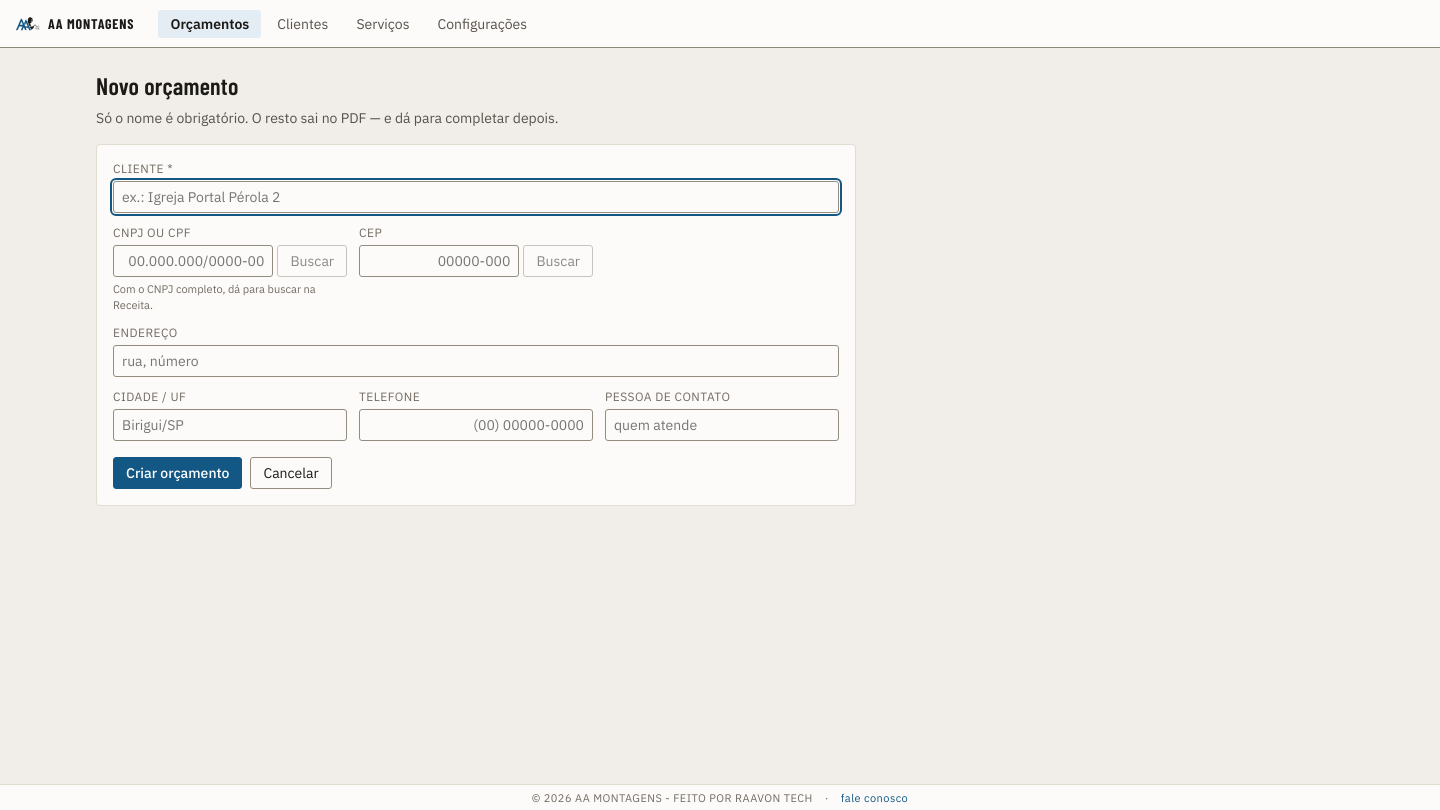
Test: novo orçamento: cadastro do cliente › grava os dados do cliente junto com o orçamento
The image size is (1440, 810).
Expected: the heading "Novo orçamento" is shown, [96,71,238,100]
In the field labelled "Cliente *": (476,197) [113,181,839,213], type "Igreja Portal Pérola 2"
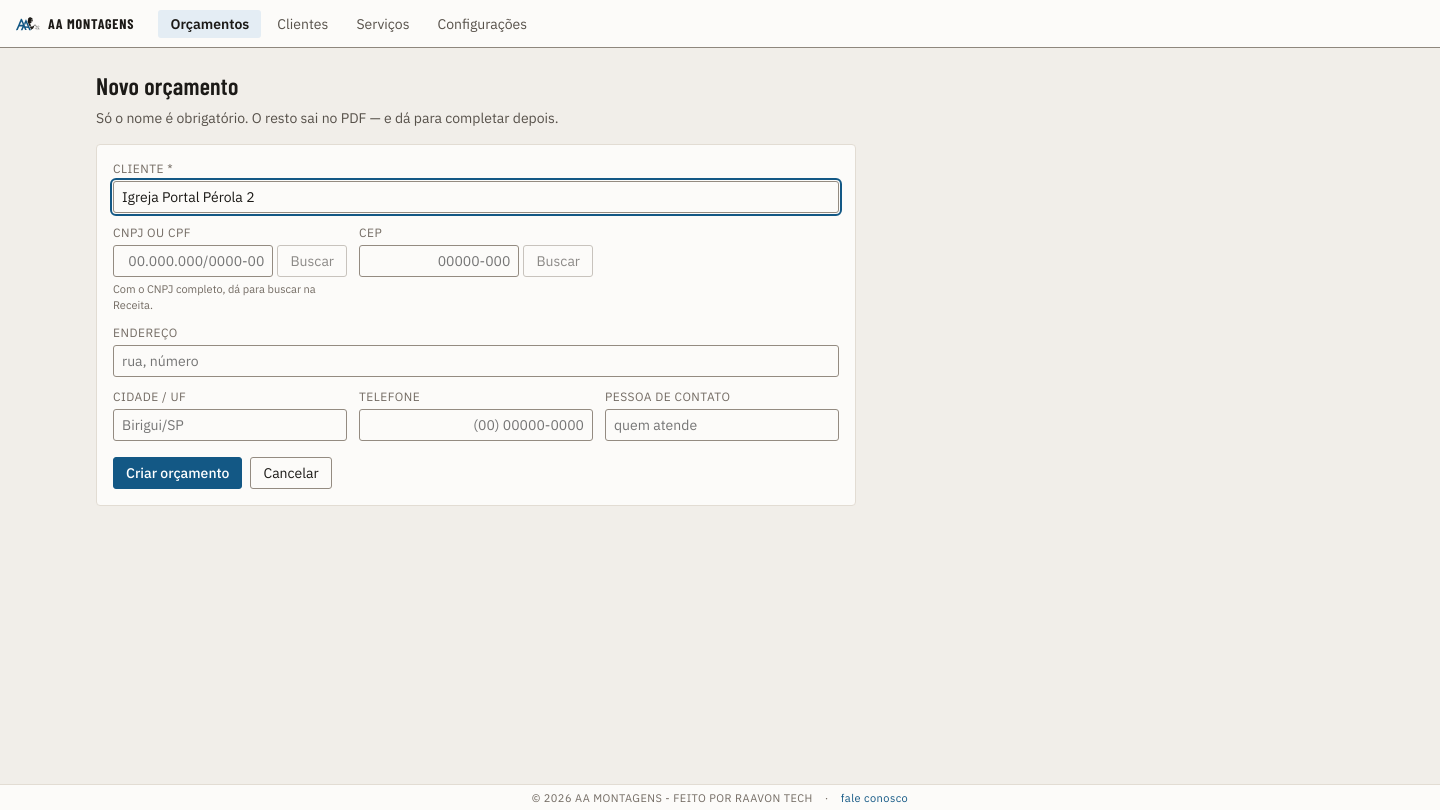
In the field labelled "CNPJ ou CPF": (193,261) [113,245,273,277], type "11144477735"
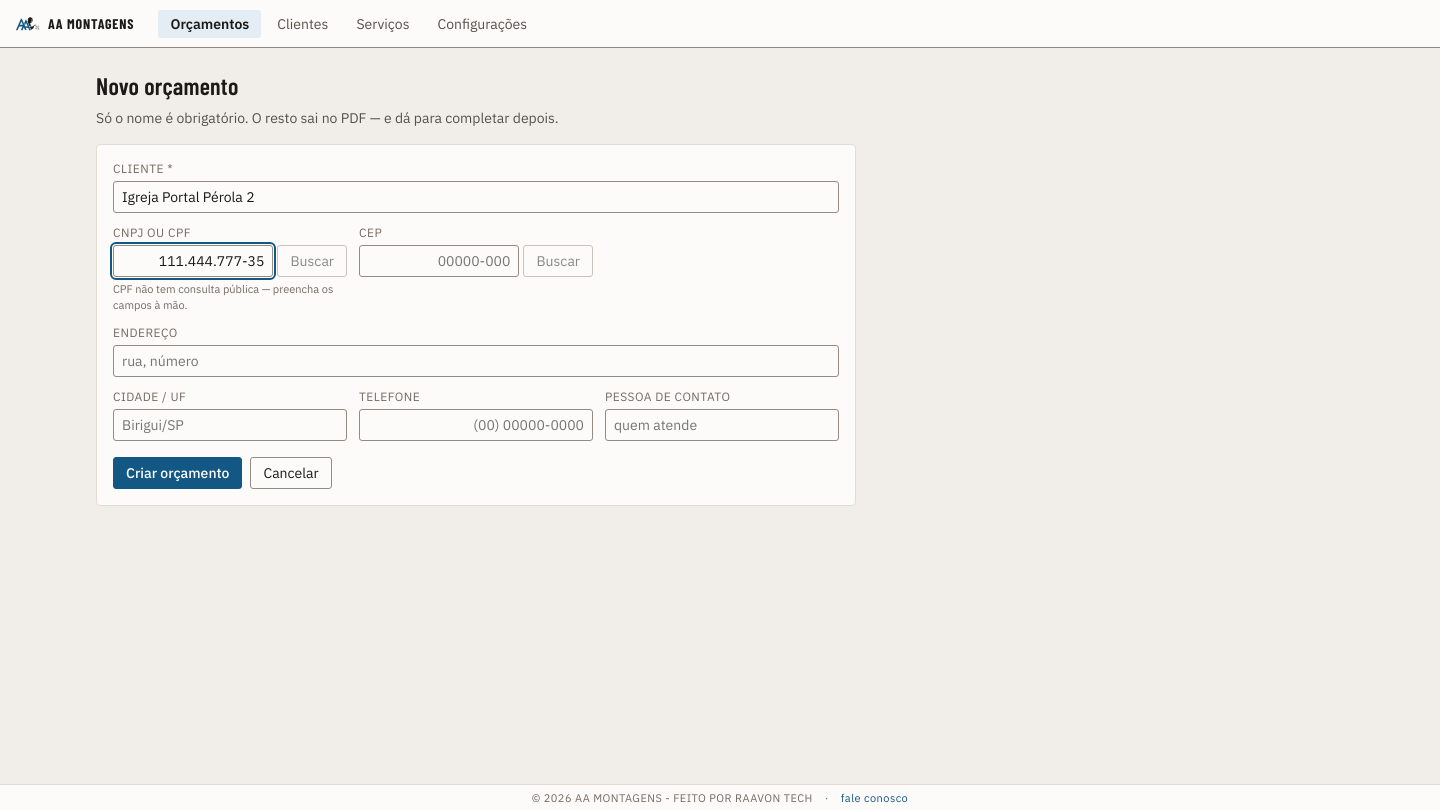
In the field labelled "Endereço": (476,361) [113,345,839,377], type "Rua das Flores, 200"
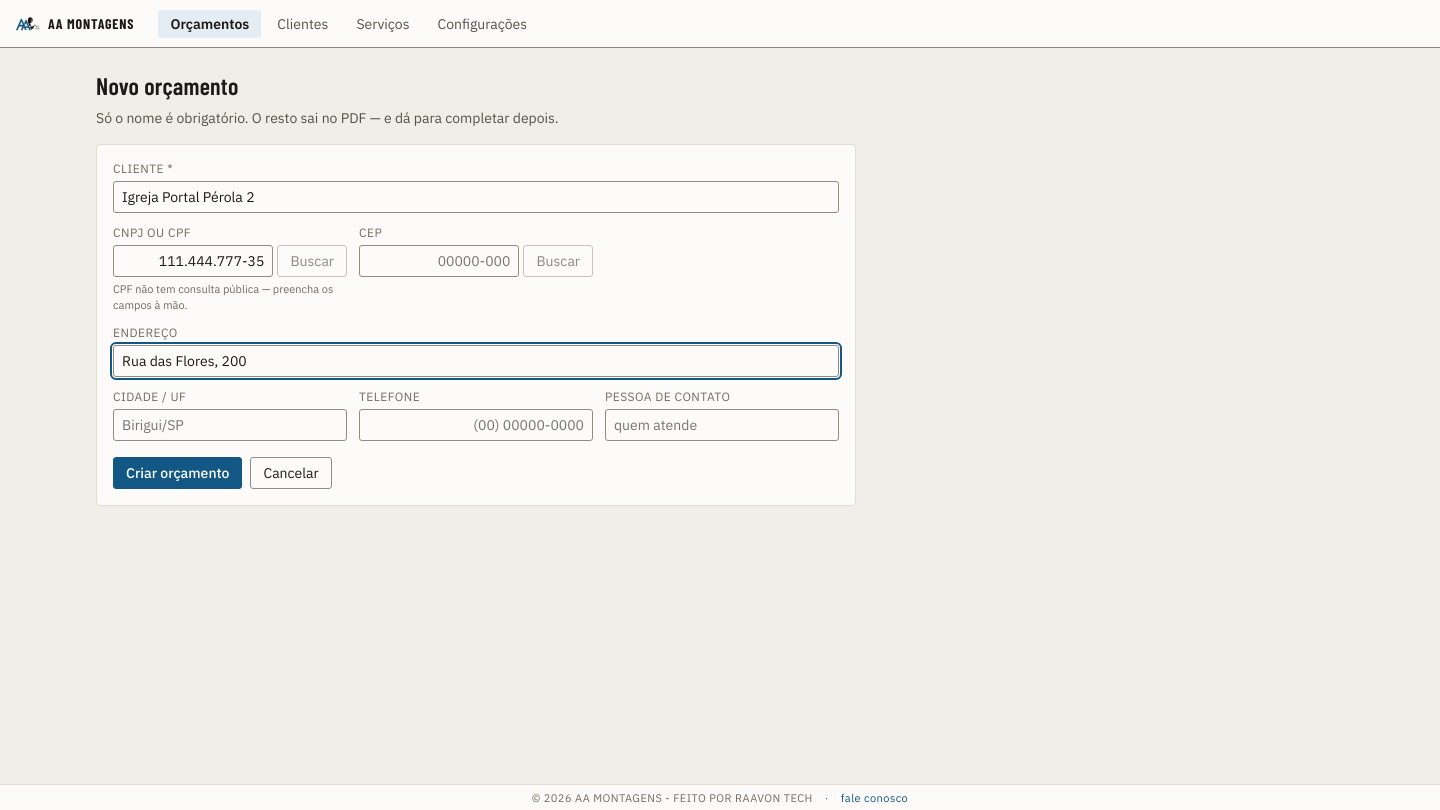
In the field labelled "Pessoa de contato": (722,425) [605,409,839,441], type "Pastor Marcelo"
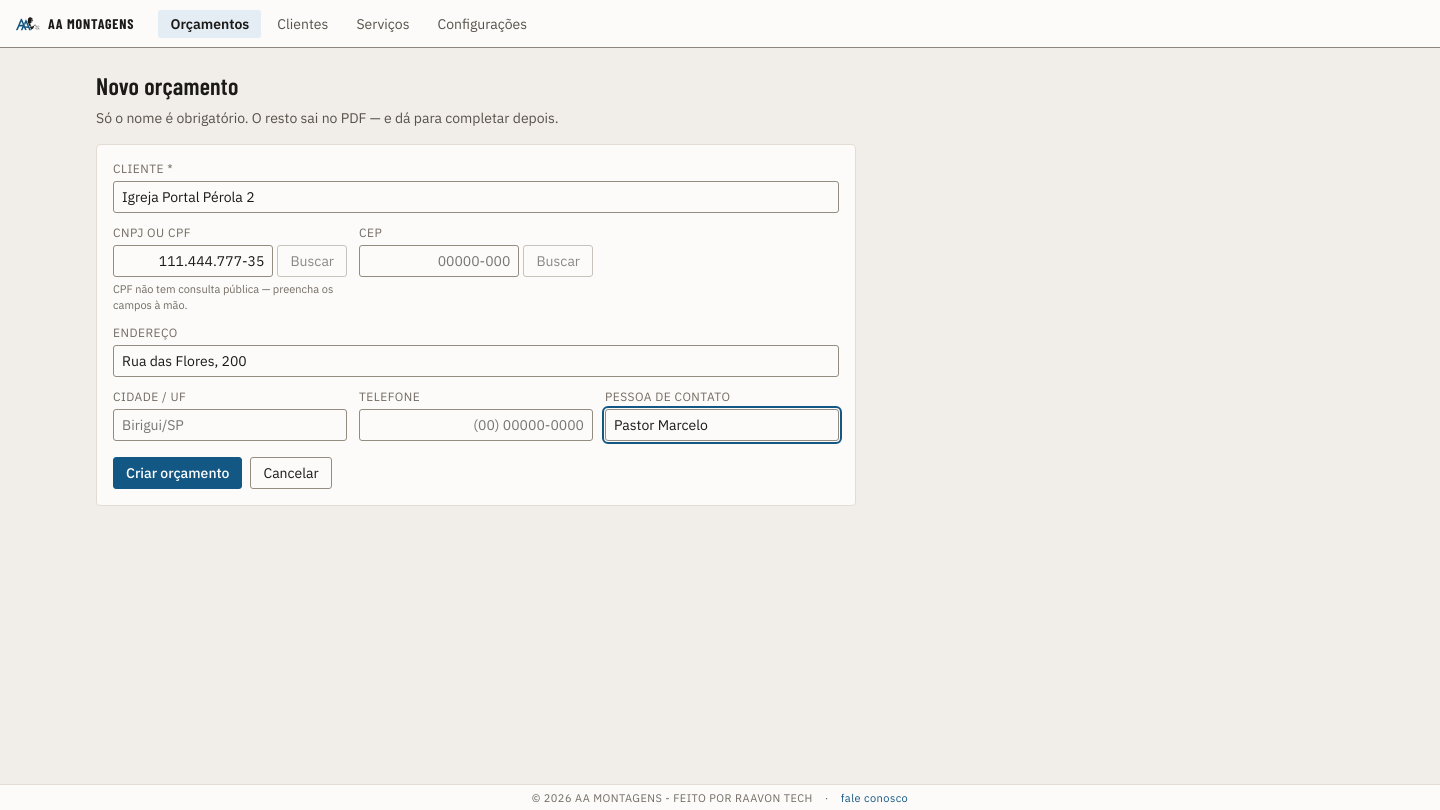
Click the button "Criar orçamento": (178,473) [113,457,242,489]
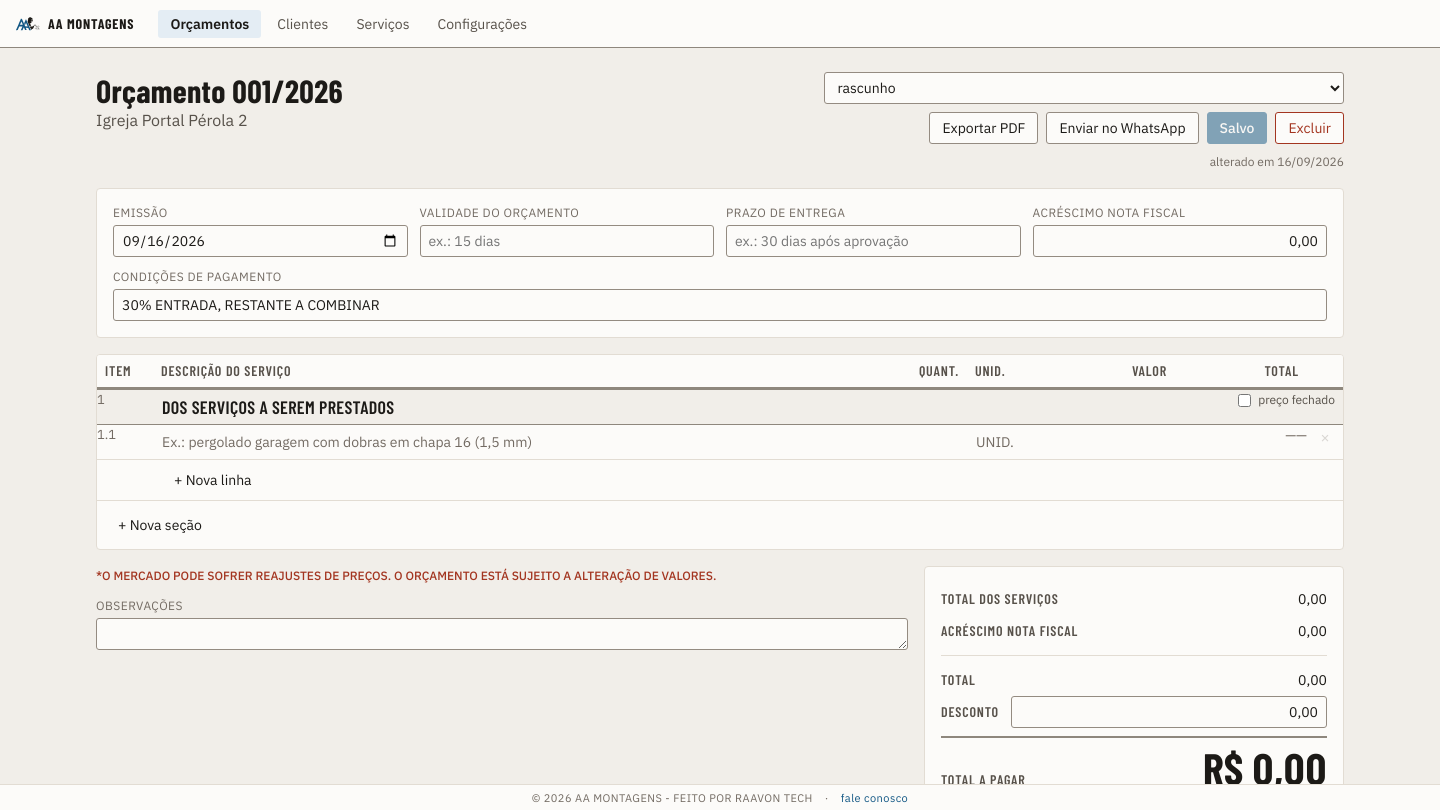
Expected: the text "Igreja Portal Pérola 2" is shown, [96,110,248,130]
